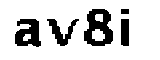8: (79, 7, 115, 50)
a: (11, 17, 43, 50)
i: (115, 4, 137, 46)
v: (43, 15, 80, 48)
